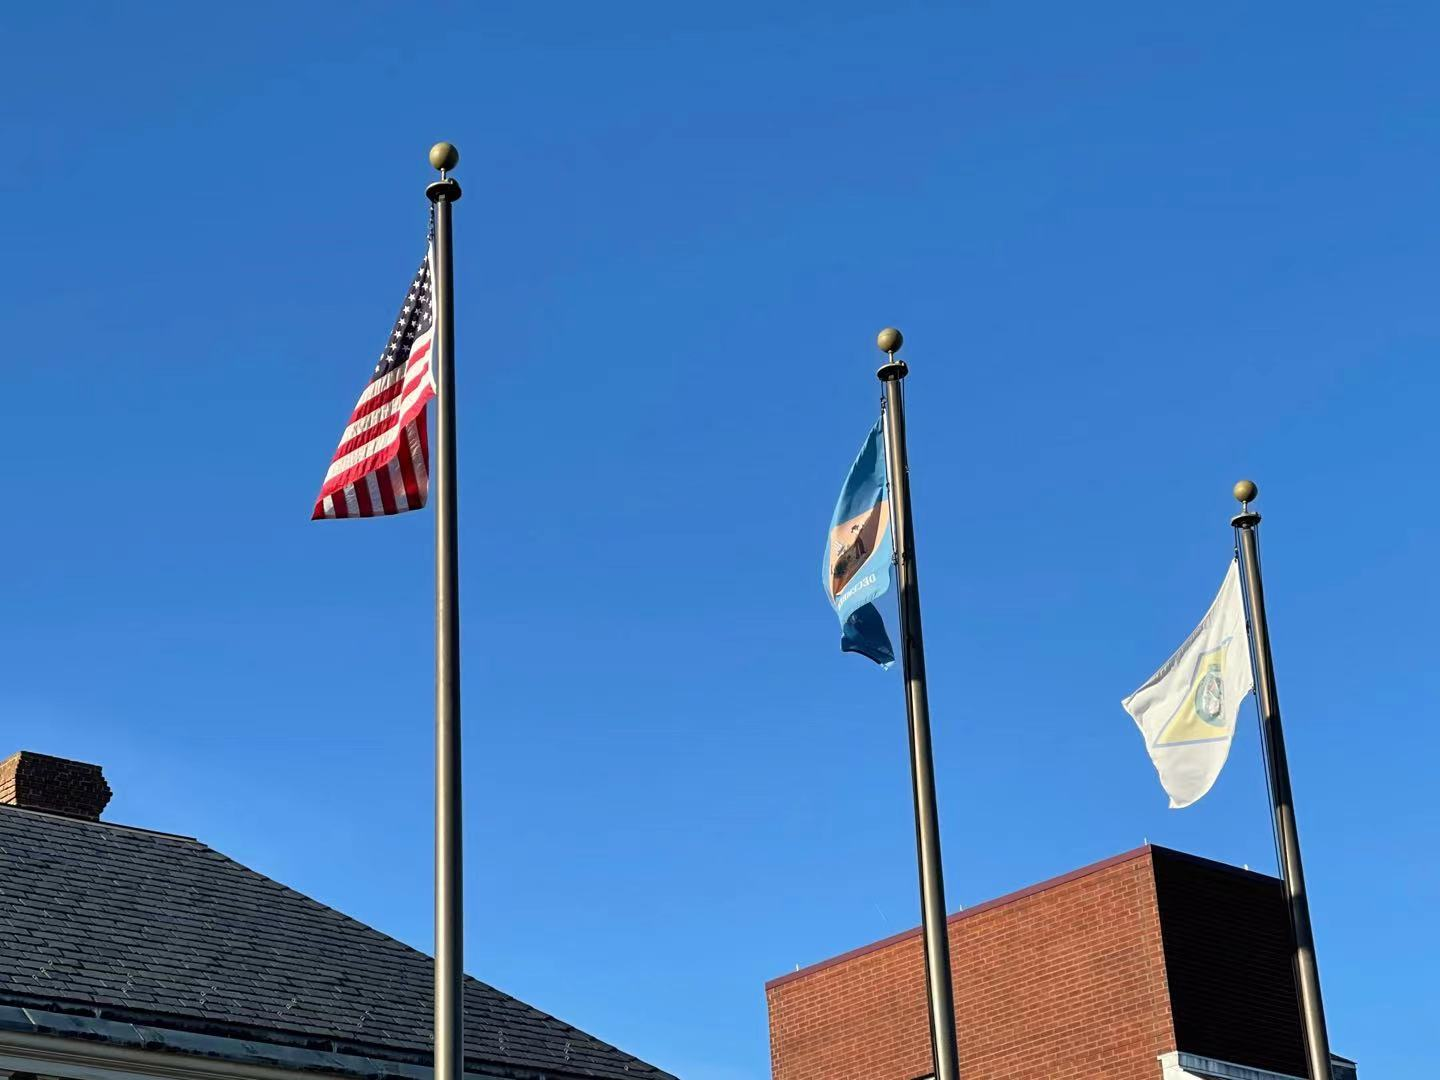America flag: (305, 220, 435, 532)
Delaware flag: (820, 391, 889, 675)
